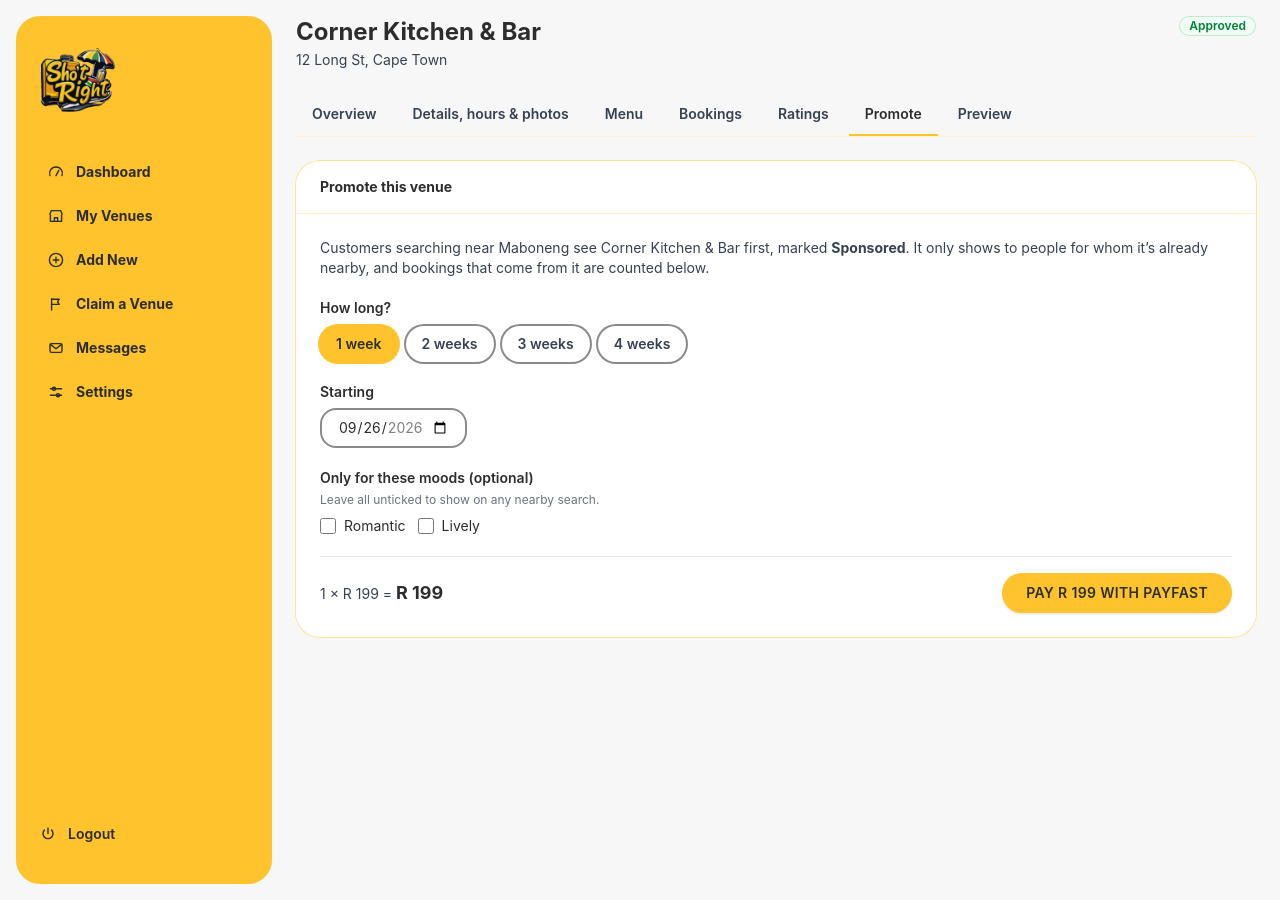
the Promote tab › puts the bench's refusal on screen and does not go to Payfast
What coordinates should you click on to do the following:
click the button "Pay R 199 with Payfast"
I would click on:
 (1117, 593)
Its box is [1002,573,1232,613].
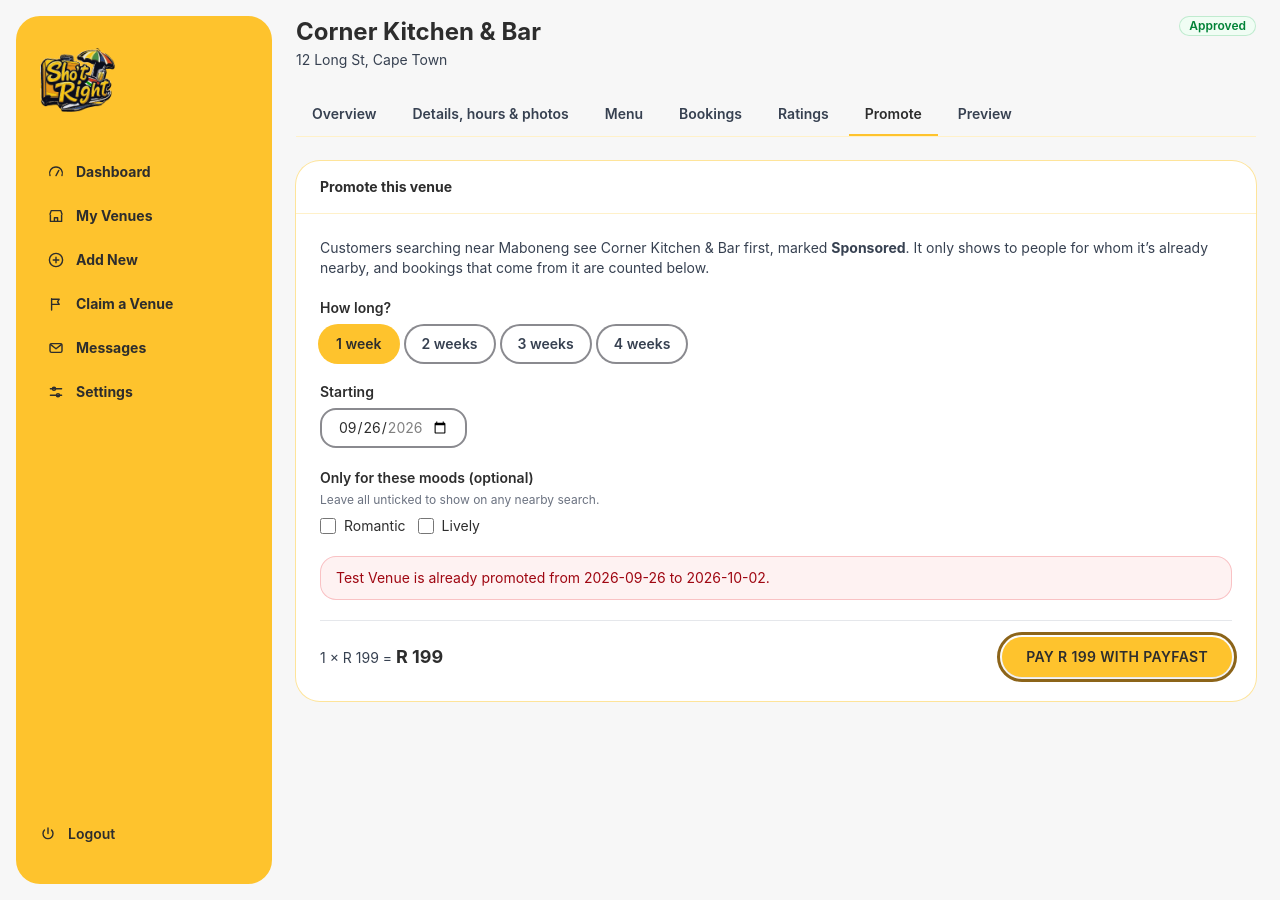
Expected: the text "Test Venue is already promoted from 2026-09-26 to 2026-10-02." is shown, [320,556,1232,600]
